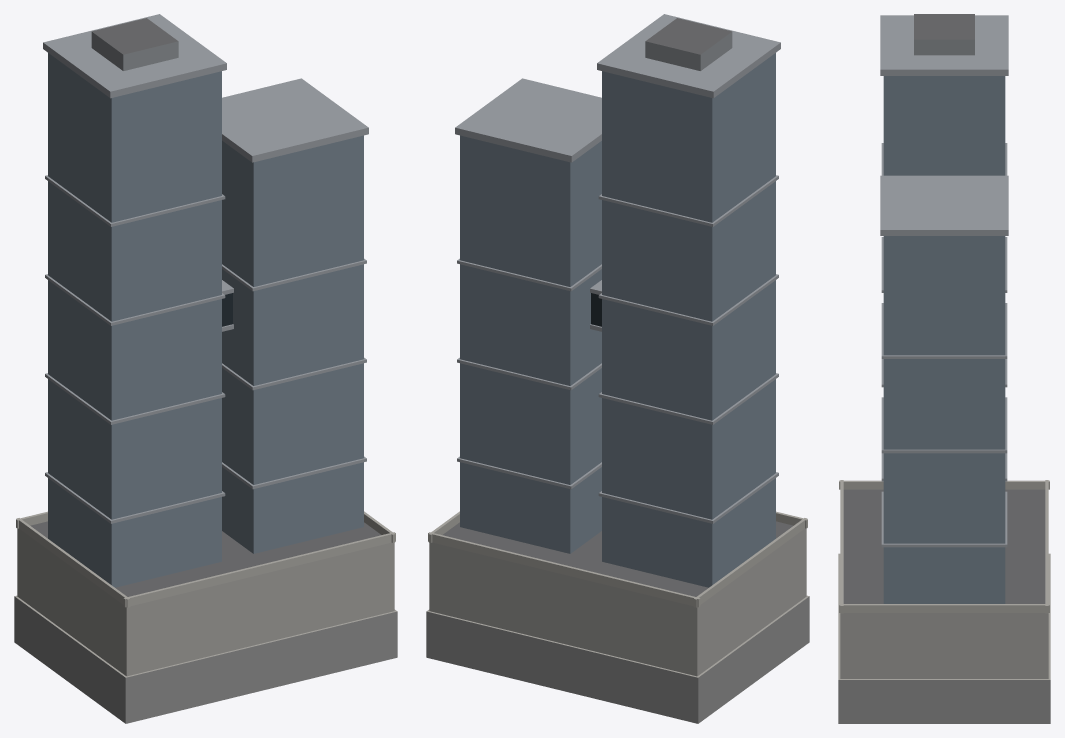
File: building_05.glb
3 renders of one model, left to right at view 1: azimuth 30°, elevation 25°; view 2: azimuth 150°, elevation 25°; view 3: azimuth 270°, elevation 25°, orthographic. The views are drawn at different scales.
Parts seen in each view (by area): view 1: Render; view 2: Render; view 3: Render.
Part boxes in pixels (bbox=[...]): Render: bbox=[14, 14, 397, 723]; Render: bbox=[426, 14, 809, 723]; Render: bbox=[838, 14, 1050, 723].
Size of the model in its own units: 34.5 by 76.5 by 24.5.
